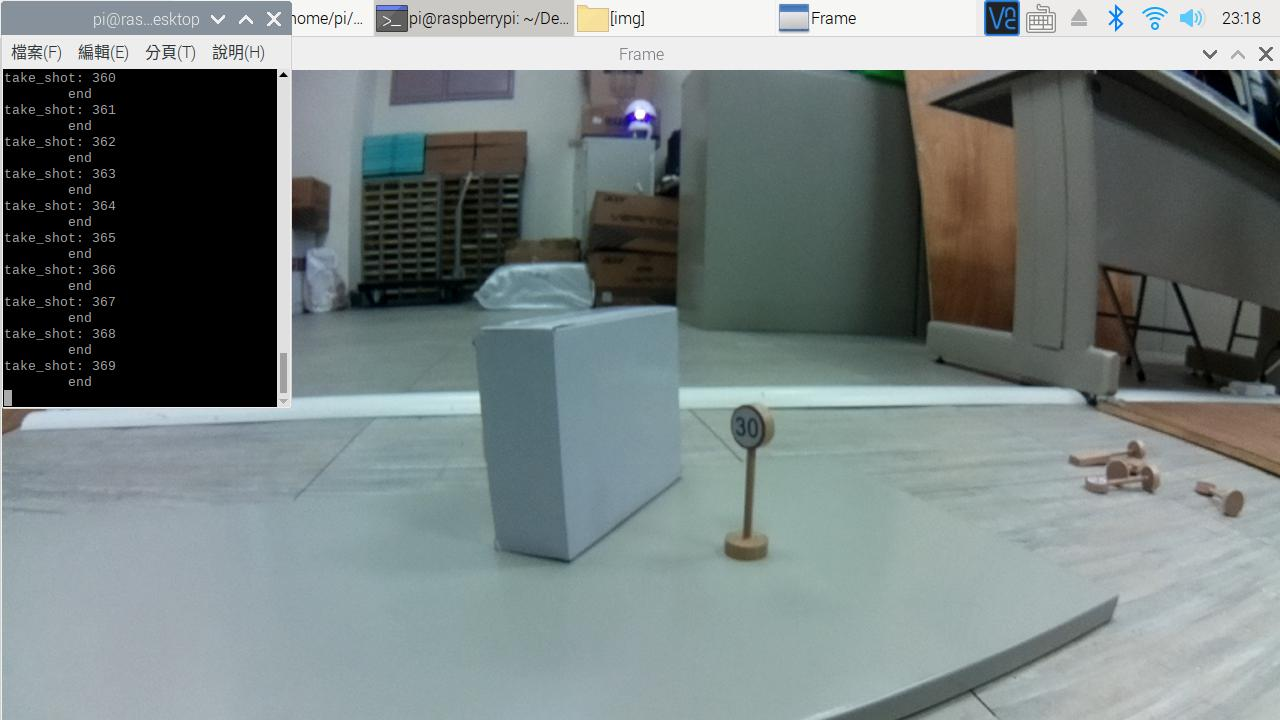Speed30: (719, 395, 800, 452)
